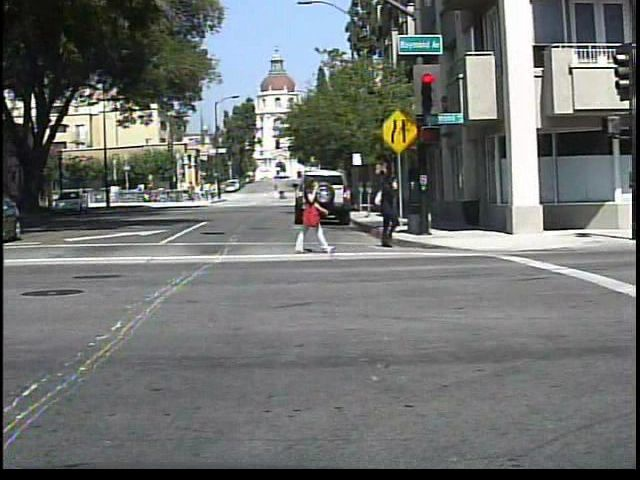person: (366, 168, 411, 250), (289, 169, 332, 253), (278, 186, 289, 203)
